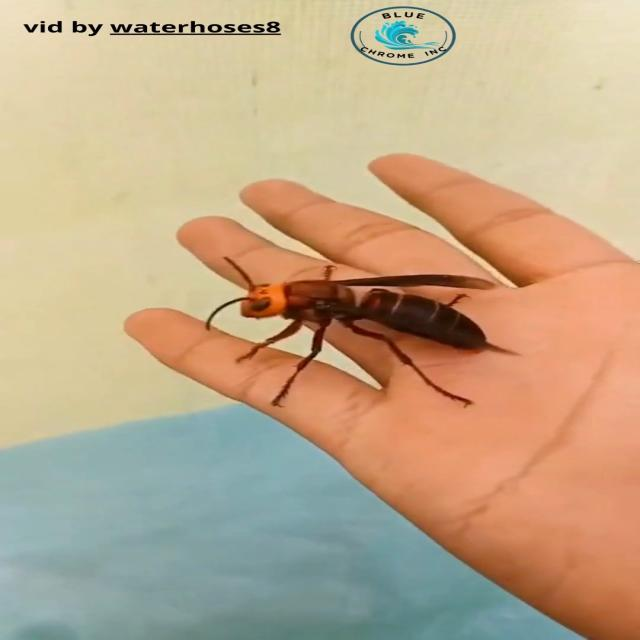Hornets: (203, 254, 520, 411)
